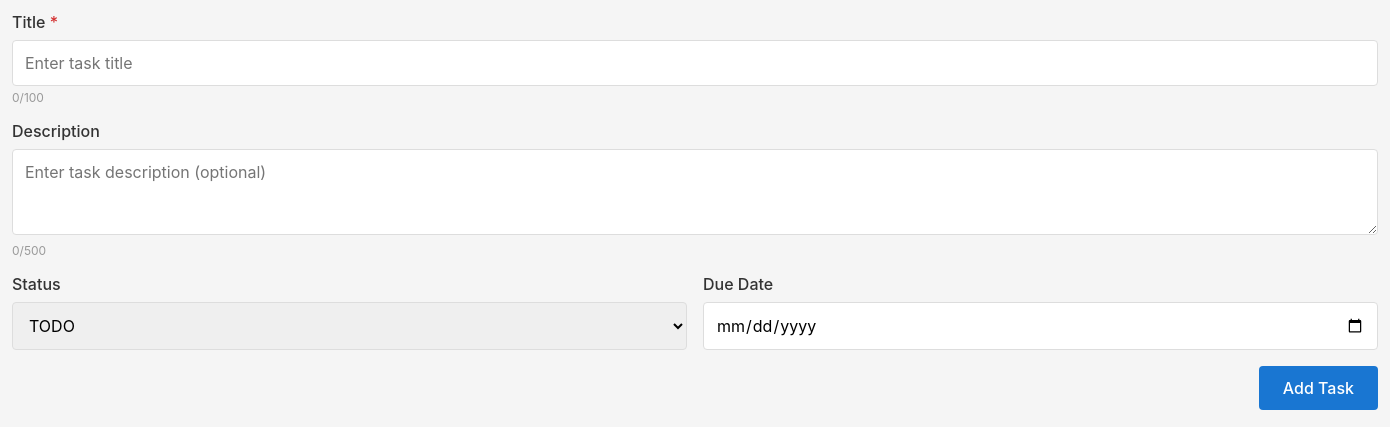
Test case: TaskForm Component › Character Count Display › should display character count for title
Type "Test" into the field labelled "Title *" at (695, 63), box x1=12 y1=40 x2=1378 y2=86
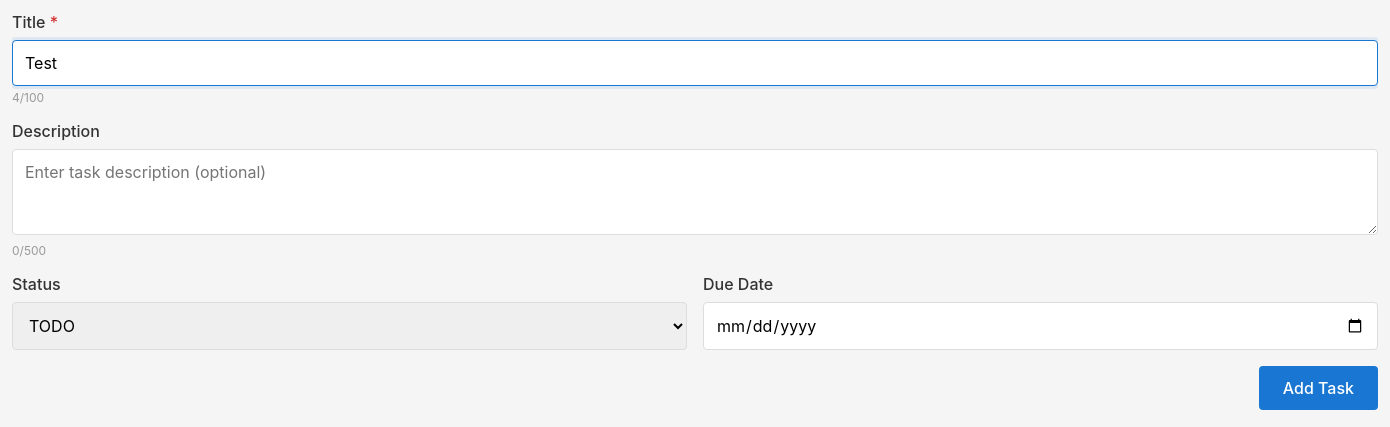
Check: the text "4/100" is shown, box x1=12 y1=90 x2=44 y2=105
